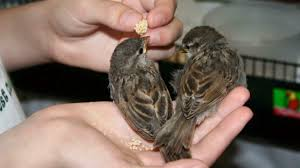hsparrow: (160, 26, 247, 157), (110, 34, 187, 164)
